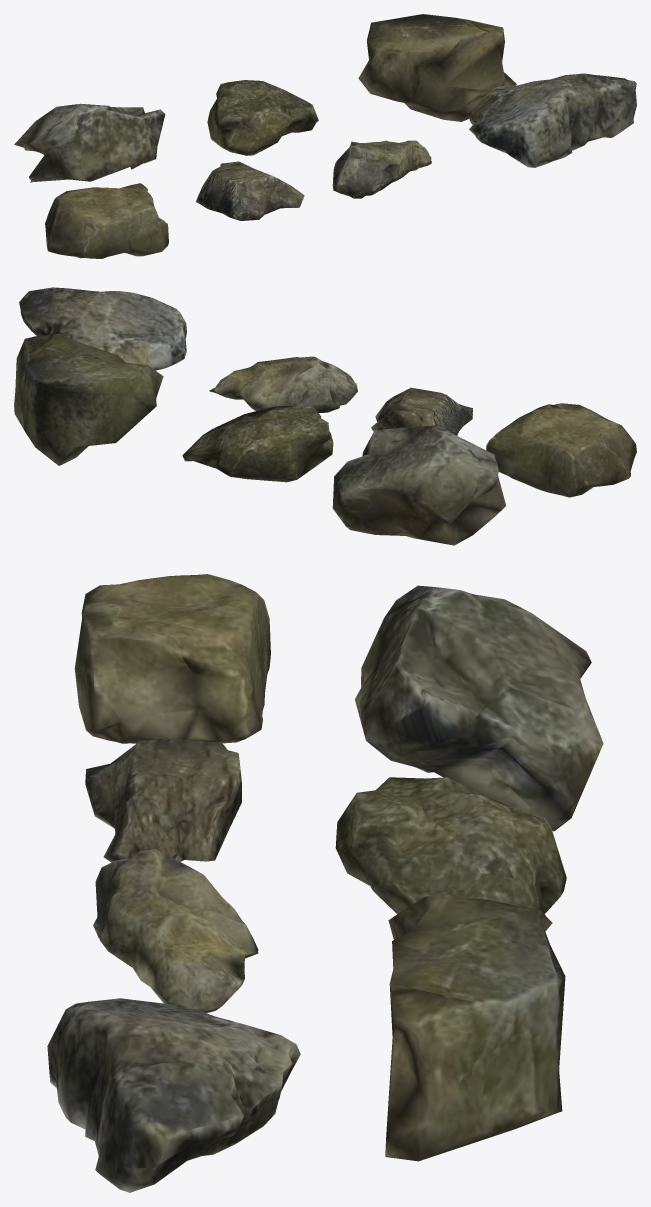
The model's file is rock_moss_set_02_lod1.glb.
The picture shows the model from 3 angles, top to bottom: view 1: azimuth 30°, elevation 25°; view 2: azimuth 150°, elevation 25°; view 3: azimuth 270°, elevation 25°; orthographic projection. The views are drawn at different scales.
Visible parts, largest first — view 1: rock_moss_set_02_rock13, rock_moss_set_02_rock10, rock_moss_set_02_rock11, rock_moss_set_02_rock07, rock_moss_set_02_rock12, rock_moss_set_02_rock08, rock_moss_set_02_rock09; view 2: rock_moss_set_02_rock11, rock_moss_set_02_rock13, rock_moss_set_02_rock07, rock_moss_set_02_rock10, rock_moss_set_02_rock12, rock_moss_set_02_rock09, rock_moss_set_02_rock08; view 3: rock_moss_set_02_rock11, rock_moss_set_02_rock13, rock_moss_set_02_rock10, rock_moss_set_02_rock07, rock_moss_set_02_rock12, rock_moss_set_02_rock09, rock_moss_set_02_rock08.
Part boxes in pixels (left/top/right/bottom): rock_moss_set_02_rock13: left=358, top=14, right=516, bottom=121; rock_moss_set_02_rock10: left=469, top=73, right=636, bottom=167; rock_moss_set_02_rock11: left=14, top=103, right=165, bottom=182; rock_moss_set_02_rock07: left=45, top=183, right=168, bottom=258; rock_moss_set_02_rock12: left=207, top=80, right=318, bottom=155; rock_moss_set_02_rock08: left=196, top=161, right=304, bottom=220; rock_moss_set_02_rock09: left=332, top=140, right=431, bottom=198; rock_moss_set_02_rock11: left=332, top=425, right=506, bottom=545; rock_moss_set_02_rock13: left=14, top=333, right=163, bottom=465; rock_moss_set_02_rock07: left=486, top=403, right=636, bottom=497; rock_moss_set_02_rock10: left=19, top=287, right=186, bottom=370; rock_moss_set_02_rock12: left=182, top=405, right=333, bottom=482; rock_moss_set_02_rock09: left=209, top=356, right=357, bottom=413; rock_moss_set_02_rock08: left=371, top=387, right=472, bottom=435; rock_moss_set_02_rock11: left=355, top=585, right=603, bottom=831; rock_moss_set_02_rock13: left=385, top=896, right=565, bottom=1161; rock_moss_set_02_rock10: left=47, top=998, right=300, bottom=1192; rock_moss_set_02_rock07: left=74, top=574, right=270, bottom=743; rock_moss_set_02_rock12: left=335, top=777, right=566, bottom=931; rock_moss_set_02_rock09: left=93, top=849, right=258, bottom=1013; rock_moss_set_02_rock08: left=85, top=738, right=241, bottom=862.
Bounding box in the file's own units: 8.26 × 1.33 × 3.41.
Materials: 1 (1 with a texture image).
